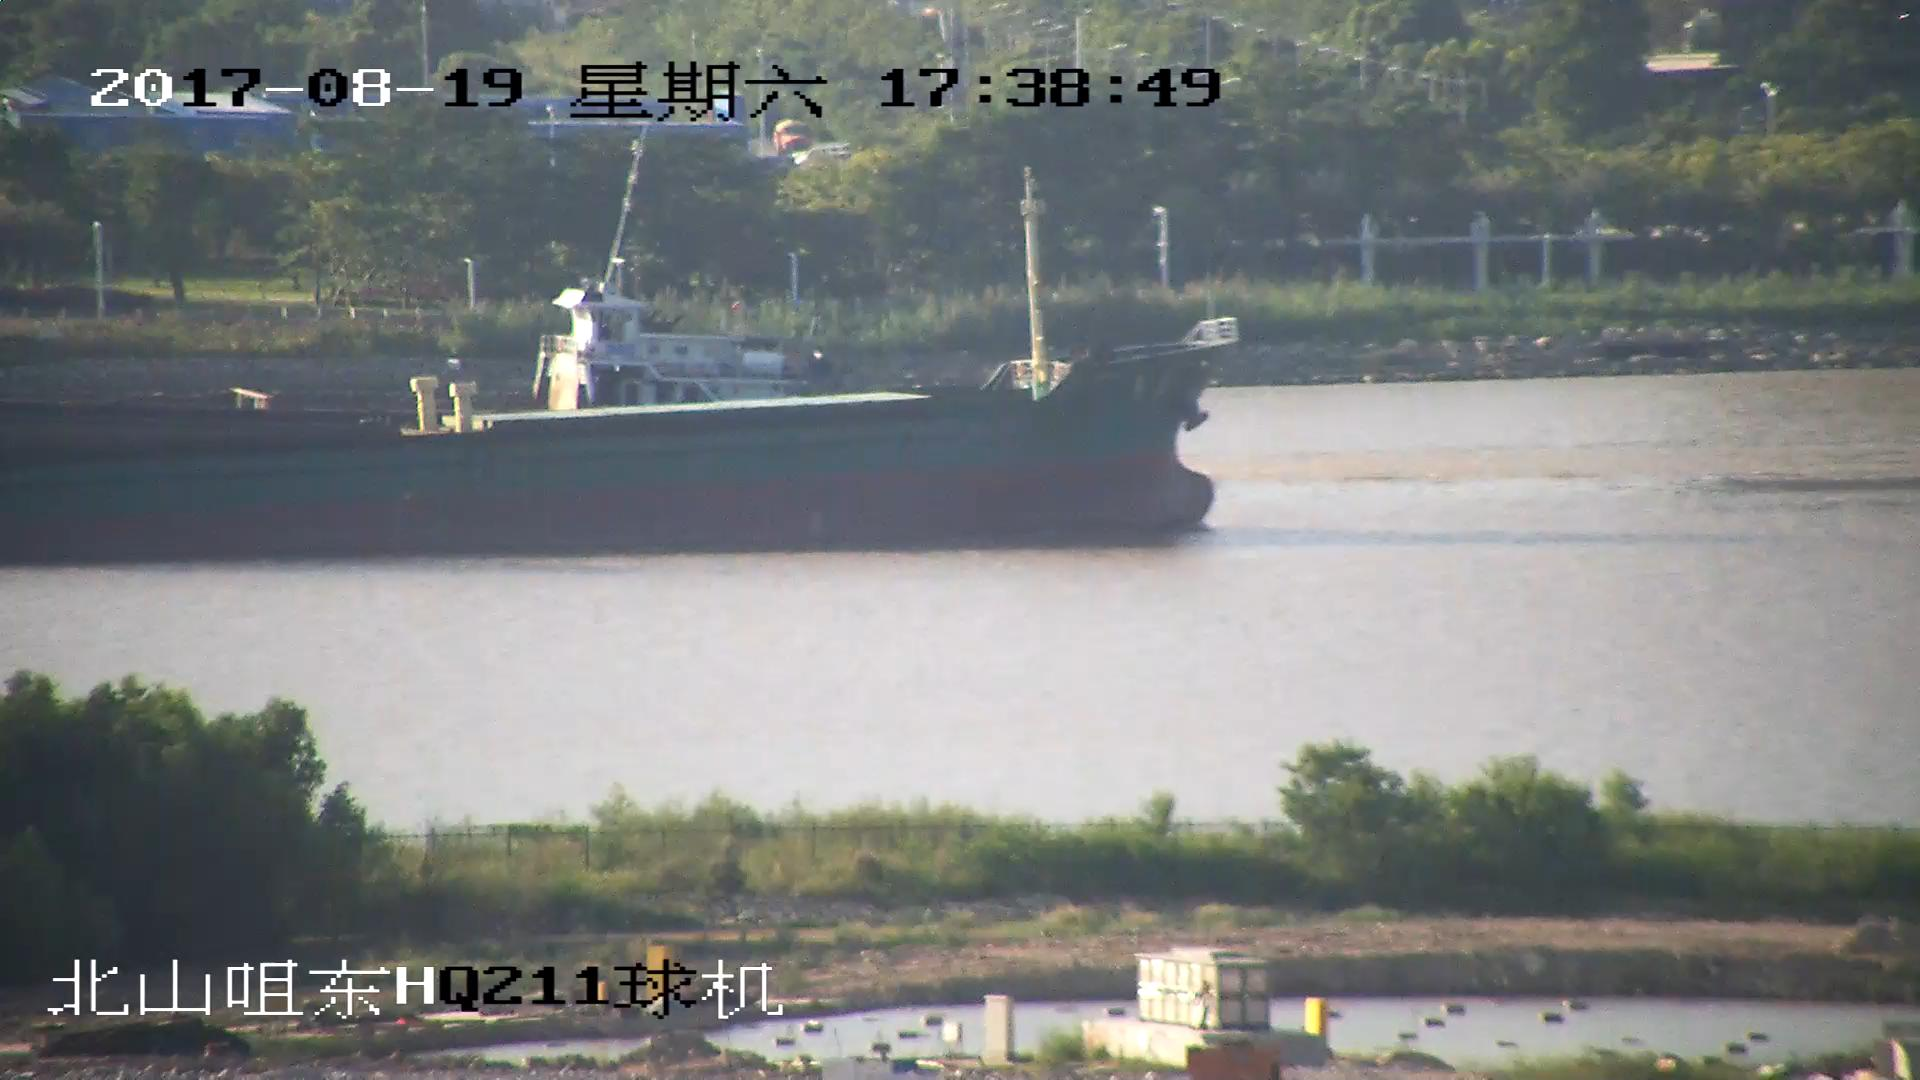general cargo ship: (1, 314, 1230, 541)
